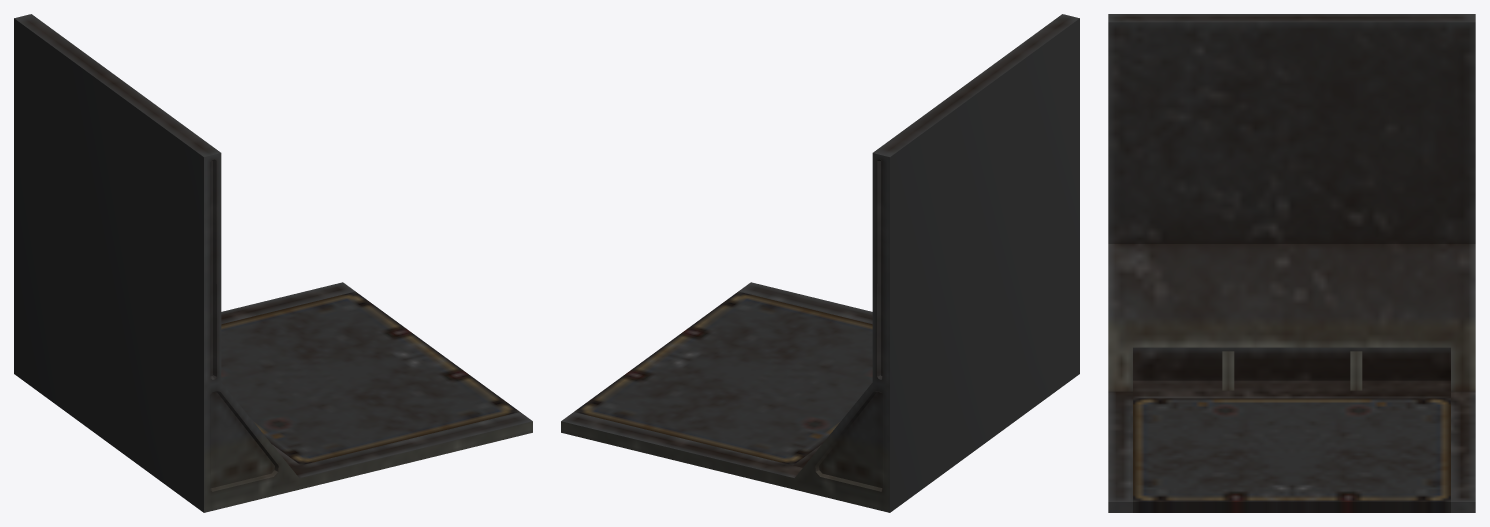
File: Wall-Floor_28.FBX
3 views of the same model, side by side, from view 1: azimuth 30°, elevation 25°; view 2: azimuth 150°, elevation 25°; view 3: azimuth 270°, elevation 25° (orthographic). The views are drawn at different scales.
Parts seen in each view (by area): view 1: Wall-Floor_28; view 2: Wall-Floor_28; view 3: Wall-Floor_28.
Part boxes in pixels (x1,y1,x2,y2): Wall-Floor_28: (14, 14, 532, 512); Wall-Floor_28: (561, 14, 1079, 512); Wall-Floor_28: (1108, 14, 1475, 512).
Size of the model in its own units: 300 by 310 by 300.
